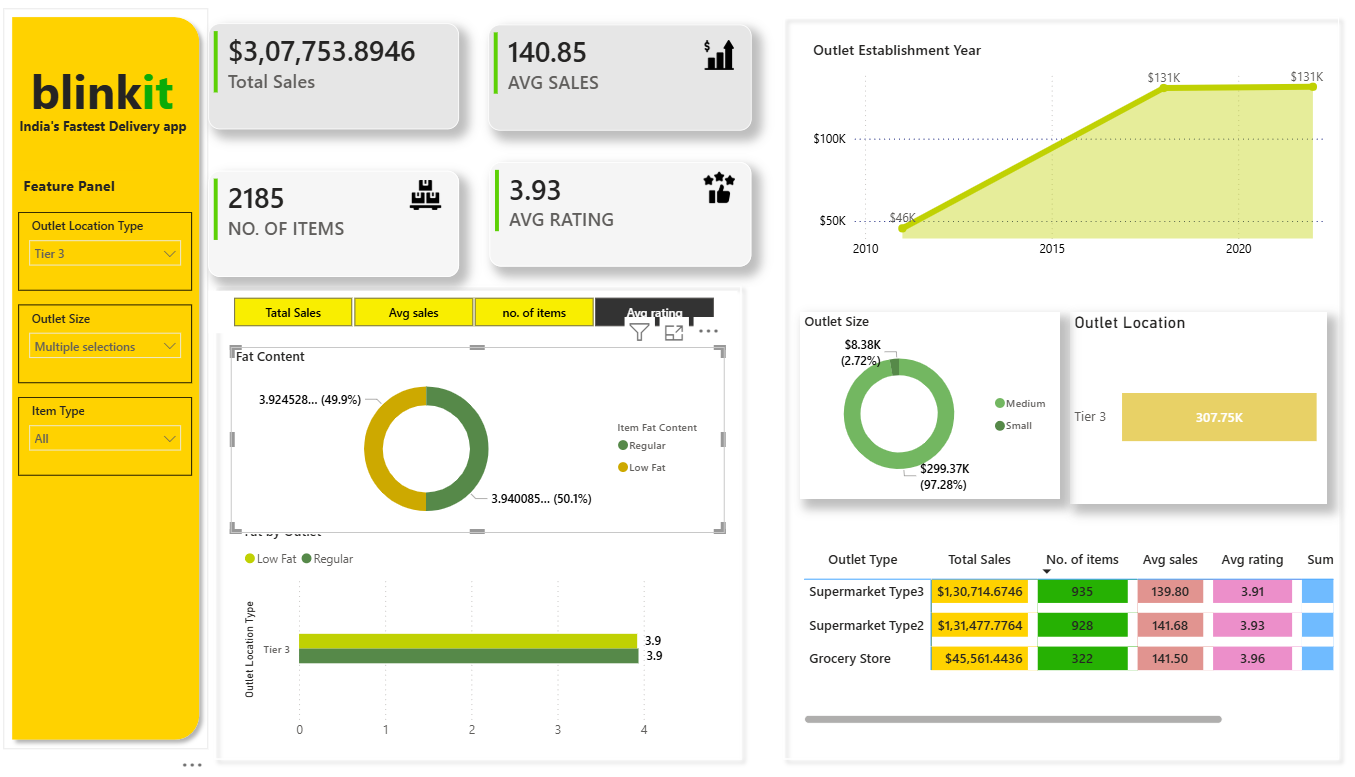

What the dashboard file says about the page in this screenshot:
{"tool":"powerbi","page":{"name":"Page 1","canvas":[1400,800],"ordinal":0},"visuals":[{"type":"shape","box":[222.9,284.3,554,500],"z":0},{"type":"shape","box":[16.7,11.7,208.3,753.3],"z":1000},{"type":"textbox","box":[38.9,57.6,164.9,76.4],"z":3000},{"type":"textbox","box":[28.3,116.7,195,31.7],"z":4000},{"type":"multiRowCard","fields":{"Values":["BlinkIT Grocery Data.Avg sales"]},"box":[510,28.3,268.3,108.3],"z":5000},{"type":"multiRowCard","fields":{"Values":["BlinkIT Grocery Data.Tatal Sales"]},"box":[880,41.7,221.7,106.7],"z":6000},{"type":"multiRowCard","fields":{"Values":["BlinkIT Grocery Data.Avg rating"]},"box":[511.7,168.3,266.7,106.7],"z":7000},{"type":"multiRowCard","fields":{"Values":["BlinkIT Grocery Data.no. of items"]},"box":[225,176.7,255,108.3],"z":8000},{"type":"image","box":[383.3,51.7,65,43.3],"z":9000},{"type":"image","box":[846.7,81.7,65,41.7],"z":10000},{"type":"image","box":[711.7,173.3,65,41.7],"z":11000},{"type":"image","box":[413.3,180,65,41.7],"z":12000},{"type":"slicer","fields":{"Values":["Metrics.Metrics"]},"box":[225.7,298.6,538.6,42.9],"z":13000},{"type":"donutChart","title":"Fat Content","fields":{"Y":["BlinkIT Grocery Data.Avg rating"],"Category":["BlinkIT Grocery Data.Item Fat Content"]},"box":[248.6,355.7,501.4,190],"z":14000},{"type":"card","fields":{"Values":["BlinkIT Grocery Data.Avg rating"]},"box":[414.3,437.1,64.3,50],"z":15000},{"type":"clusteredBarChart","title":"Fat by Outlet","fields":{"Y":["BlinkIT Grocery Data.Avg rating"],"Category":["BlinkIT Grocery Data.Outlet Location Type"],"Series":["BlinkIT Grocery Data.Item Fat Content"]},"box":[257.1,534.3,505.7,230],"z":16000},{"type":"shape","box":[801.7,11.7,583.3,773.3],"z":17000},{"type":"lineChart","title":" Outlet Establishment Year","fields":{"Category":["BlinkIT Grocery Data.Outlet Establishment Year"],"Y":["BlinkIT Grocery Data.Tatal Sales"]},"box":[835,43.3,531.7,231.7],"z":18000},{"type":"donutChart","title":"Outlet Size","fields":{"Y":["BlinkIT Grocery Data.Tatal Sales"],"Category":["BlinkIT Grocery Data.Outlet Size"]},"box":[826.7,320,265,190],"z":19000},{"type":"funnel","title":"Outlet Location ","fields":{"Y":["Sum(BlinkIT Grocery Data.Sales)"],"Category":["BlinkIT Grocery Data.Outlet Location Type"]},"box":[1101.7,320,261.7,195],"z":20000},{"type":"pivotTable","fields":{"Rows":["BlinkIT Grocery Data.Outlet Type"],"Values":["BlinkIT Grocery Data.Tatal Sales","BlinkIT Grocery Data.no. of items","BlinkIT Grocery Data.Avg sales","BlinkIT Grocery Data.Avg rating","Sum(BlinkIT Grocery Data.Item Visibility)"]},"box":[826.7,555,548.3,190],"z":21000},{"type":"slicer","fields":{"Values":["BlinkIT Grocery Data.Outlet Location Type"]},"box":[31.7,218.3,176.7,80],"z":22000},{"type":"slicer","fields":{"Values":["BlinkIT Grocery Data.Outlet Size"]},"box":[31.7,313.3,176.7,80],"z":23000},{"type":"slicer","fields":{"Values":["BlinkIT Grocery Data.Item Type"]},"box":[31.7,406.7,176.7,80],"z":23001},{"type":"textbox","box":[31.7,176.7,126.7,35],"z":23002},{"type":"multiRowCard","fields":{"Values":["BlinkIT Grocery Data.Total Sales"]},"box":[225,26.7,255,108.3],"z":23003},{"type":"image","box":[711.7,38.3,65,41.7],"z":23004}]}

Visuals, with their boxes in screenshot pixels (x1, y1, x2, y2), scaled from the page's 1400x800 canvas onto the 1355x777 screenshot:
shape: 216 276 752 762
shape: 16 11 218 743
textbox: 38 56 197 130
textbox: 27 113 216 144
multiRowCard - BlinkIT Grocery Data.Avg sales: 494 27 753 133
multiRowCard - BlinkIT Grocery Data.Tatal Sales: 852 41 1066 144
multiRowCard - BlinkIT Grocery Data.Avg rating: 495 163 753 267
multiRowCard - BlinkIT Grocery Data.no. of items: 218 172 465 277
image: 371 50 434 92
image: 819 79 882 120
image: 689 168 752 209
image: 400 175 463 215
slicer - Metrics.Metrics: 218 290 740 332
"Fat Content" donutChart: 241 345 726 530
card - BlinkIT Grocery Data.Avg rating: 401 425 463 473
"Fat by Outlet" clusteredBarChart: 249 519 738 742
shape: 776 11 1340 762
" Outlet Establishment Year" lineChart: 808 42 1323 267
"Outlet Size" donutChart: 800 311 1057 495
"Outlet Location " funnel: 1066 311 1320 500
pivotTable - BlinkIT Grocery Data.Outlet Type x BlinkIT Grocery Data.Tatal Sales: 800 539 1331 724
slicer - BlinkIT Grocery Data.Outlet Location Type: 31 212 202 290
slicer - BlinkIT Grocery Data.Outlet Size: 31 304 202 382
slicer - BlinkIT Grocery Data.Item Type: 31 395 202 473
textbox: 31 172 153 206
multiRowCard - BlinkIT Grocery Data.Total Sales: 218 26 465 131
image: 689 37 752 78
